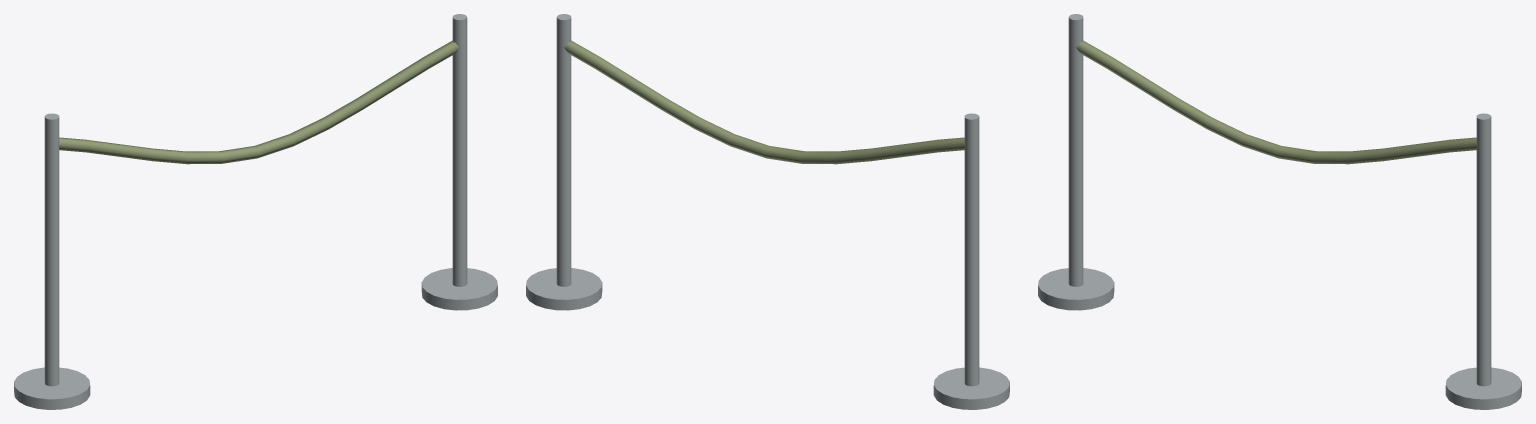
The picture shows the model from 3 angles, left to right: view 1: azimuth 30°, elevation 25°; view 2: azimuth 150°, elevation 25°; view 3: azimuth 330°, elevation 25°; orthographic projection.
Visible parts, largest first — view 1: queue-barrier; view 2: queue-barrier; view 3: queue-barrier.
Part boxes in pixels (x1,y1,x2,y2): queue-barrier: (14, 14, 497, 409); queue-barrier: (526, 14, 1009, 409); queue-barrier: (1038, 14, 1521, 409).
Size of the model in its own units: 1.86 by 1.04 by 0.26.
